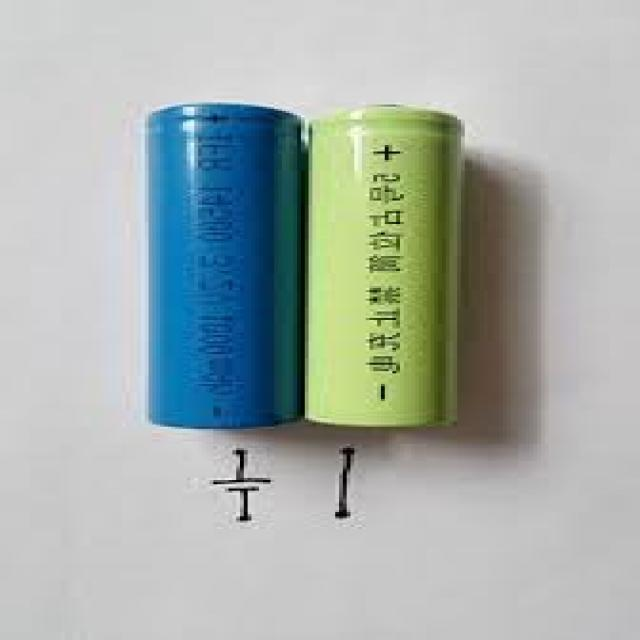battery: (302, 102, 479, 438), (138, 94, 304, 431)
